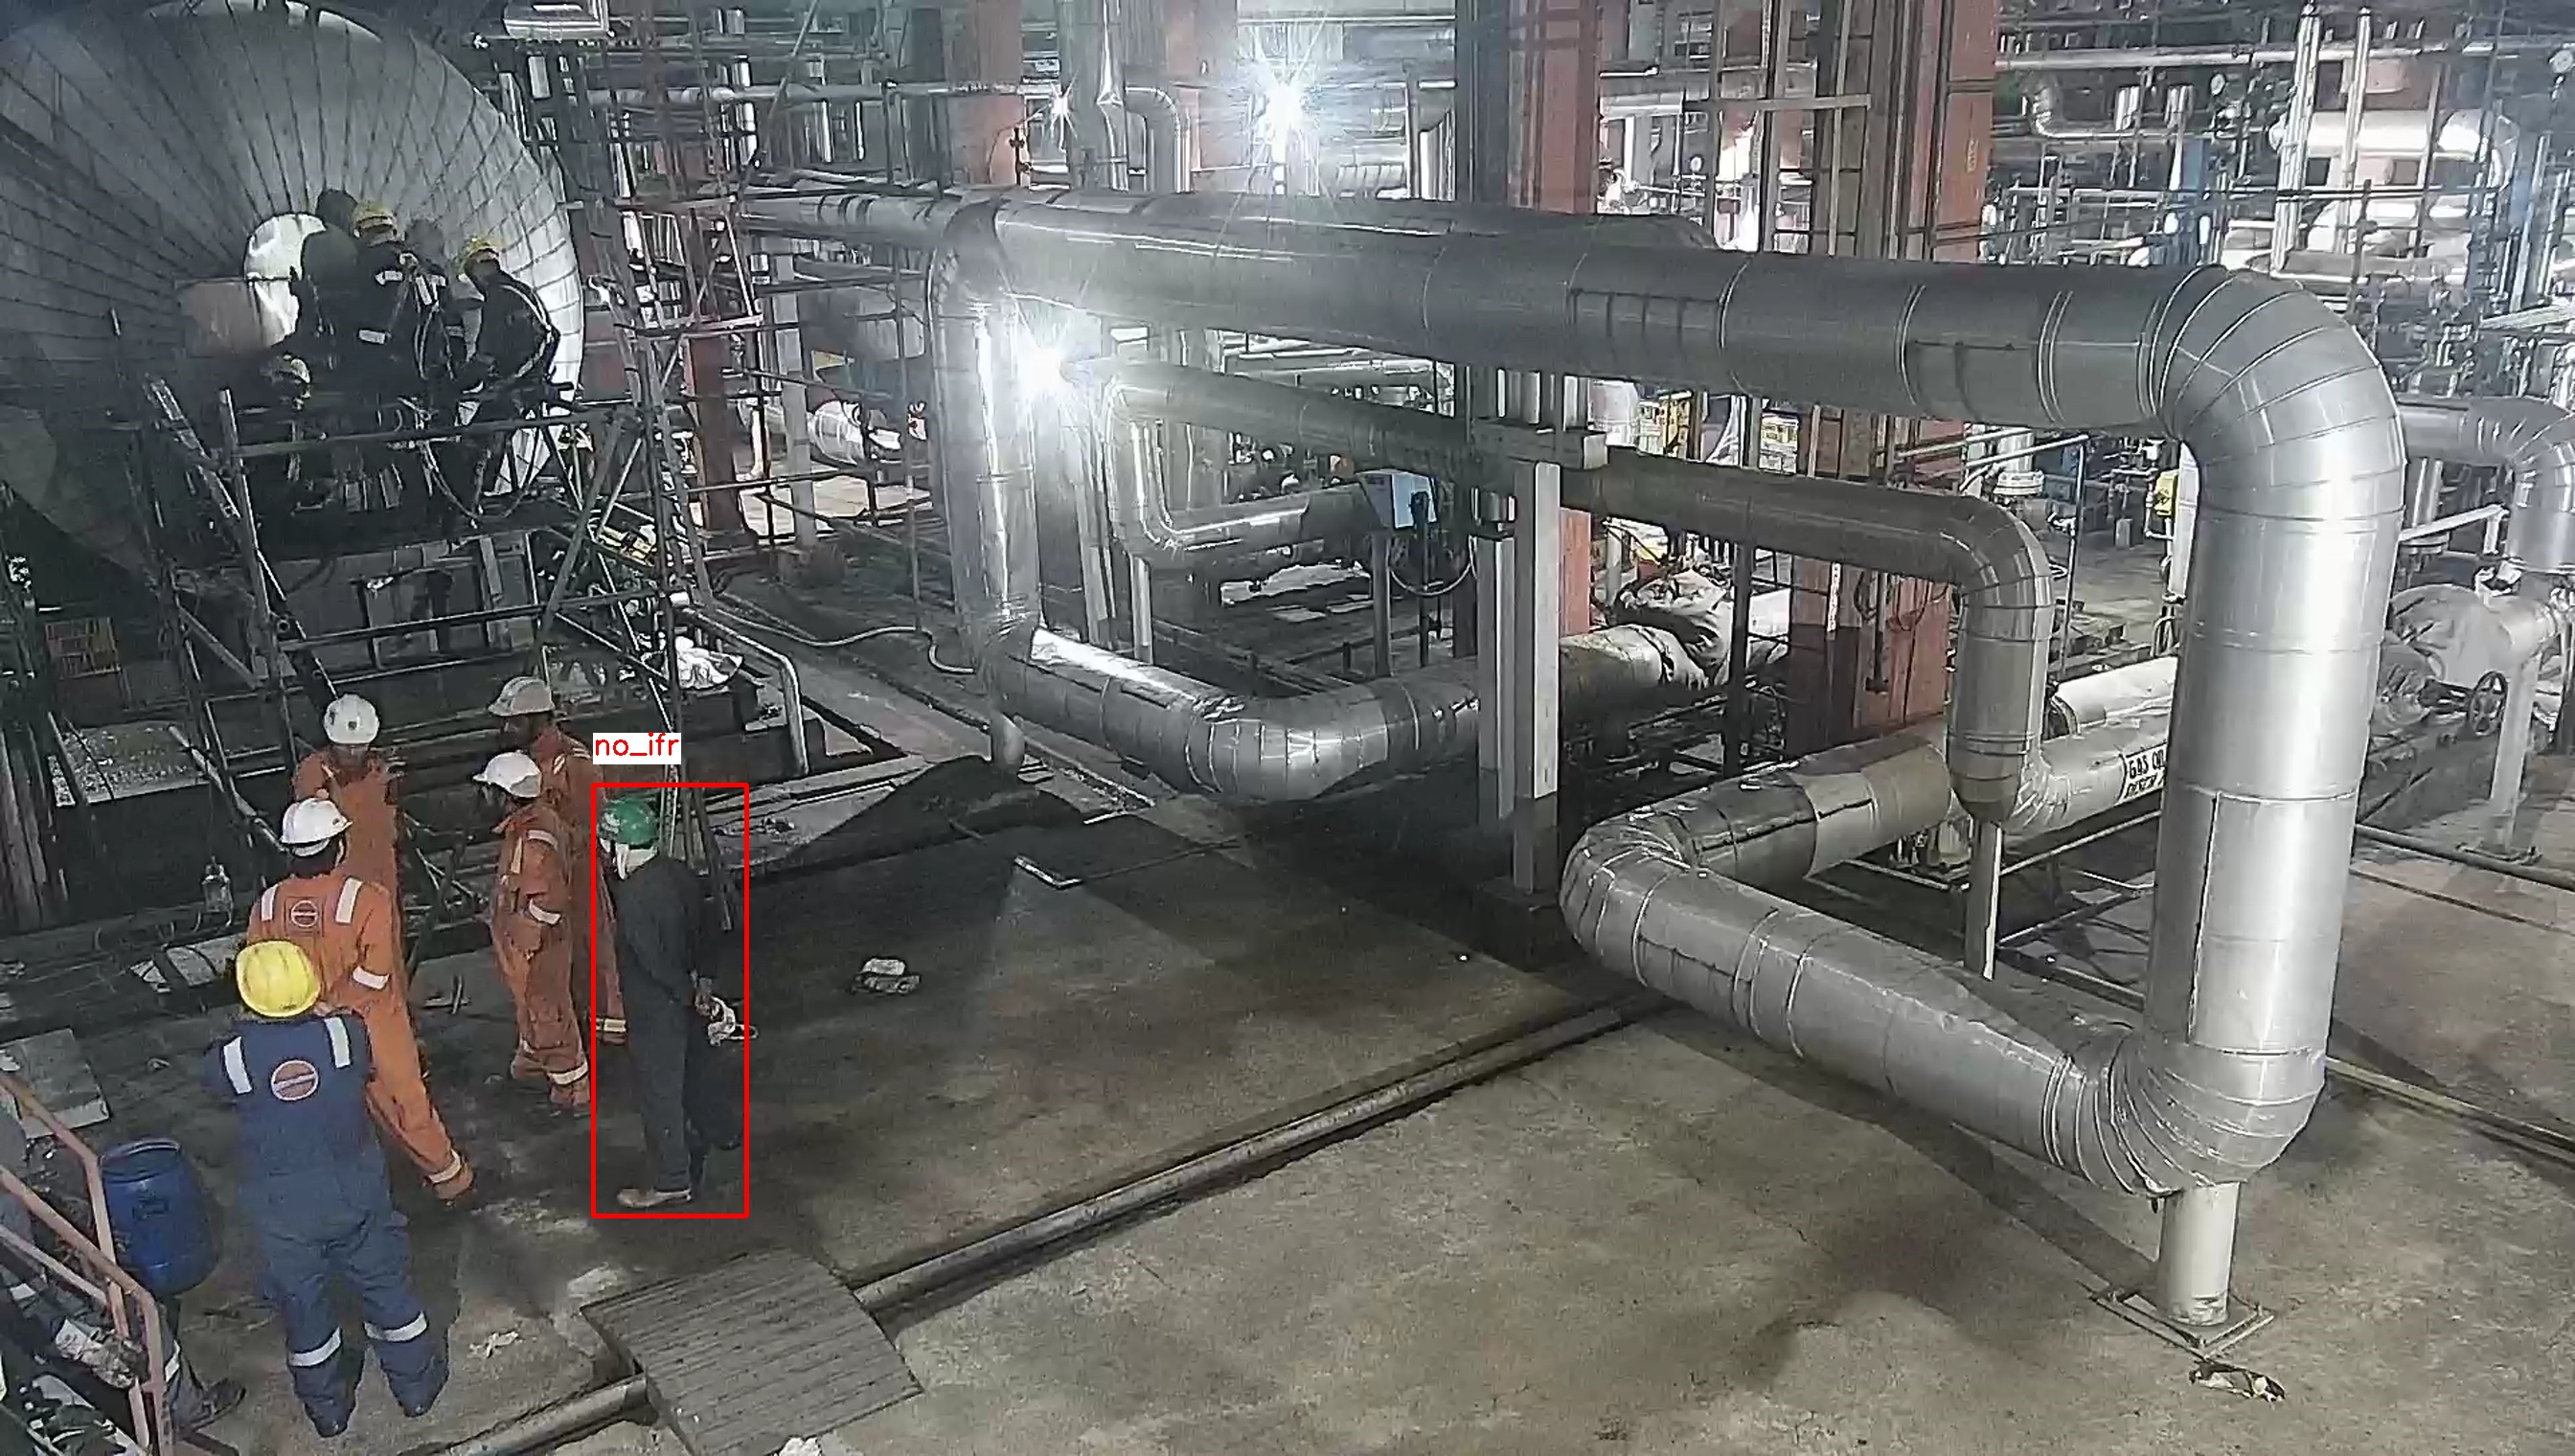Helmets: (223, 941, 322, 1023), (278, 800, 357, 851), (317, 692, 391, 747), (474, 750, 548, 803)
IFR_Suit: (216, 1012, 421, 1389), (486, 808, 589, 1100)
